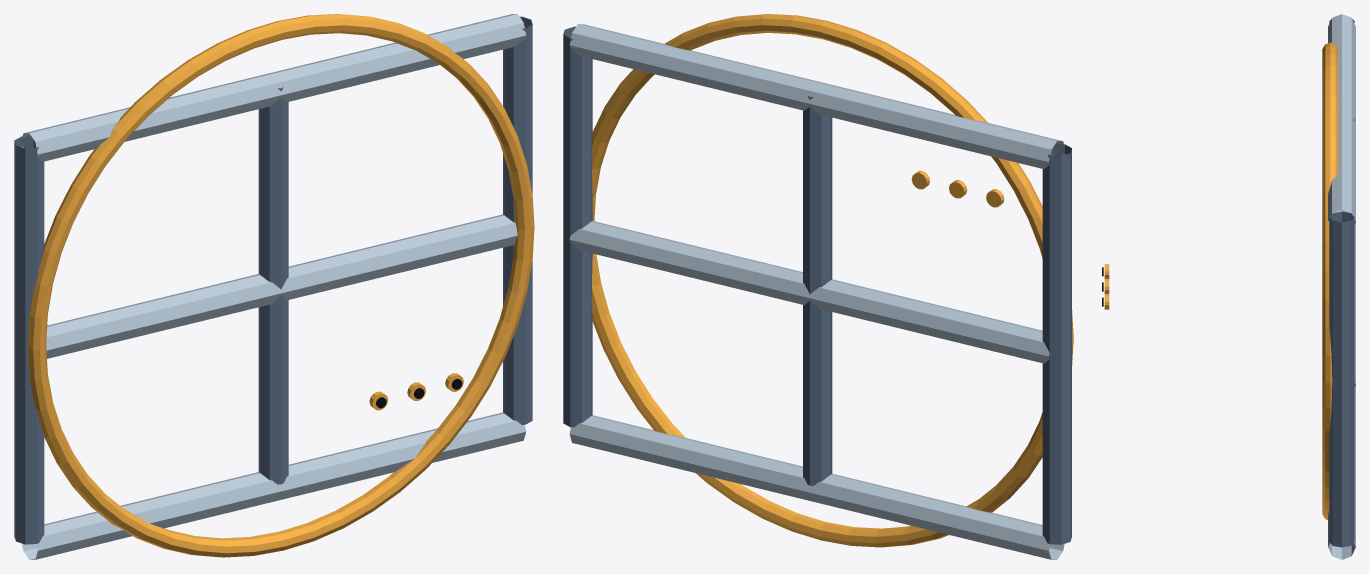
The model's file is 27_L90_Aurora1ThrusterMountingTruss.fbx.
3 renders of one model, left to right at view 1: azimuth 30°, elevation 25°; view 2: azimuth 150°, elevation 25°; view 3: azimuth 270°, elevation 25°, orthographic. The views are drawn at different scales.
Visible parts, largest first — view 1: L90_Aurora1ThrusterMountingTruss; view 2: L90_Aurora1ThrusterMountingTruss; view 3: L90_Aurora1ThrusterMountingTruss.
Part boxes in pixels (<box>): L90_Aurora1ThrusterMountingTruss: <box>14,14,534,559</box>; L90_Aurora1ThrusterMountingTruss: <box>563,14,1073,559</box>; L90_Aurora1ThrusterMountingTruss: <box>1322,14,1355,559</box>.
Size of the model in its own units: 422 by 414 by 219.
